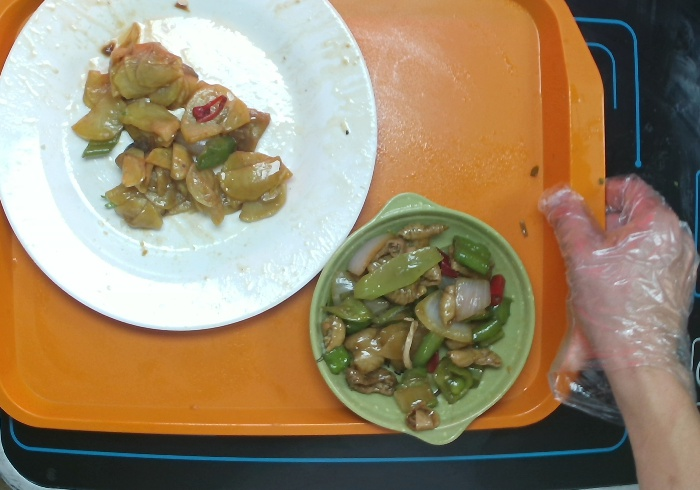NLDX-Da_Yuan_Pan: (1, 1, 380, 334)
NLDX-Lv_Hua_Shuang_Er_Die: (306, 189, 536, 448)
